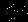person: (6, 6, 15, 20)
